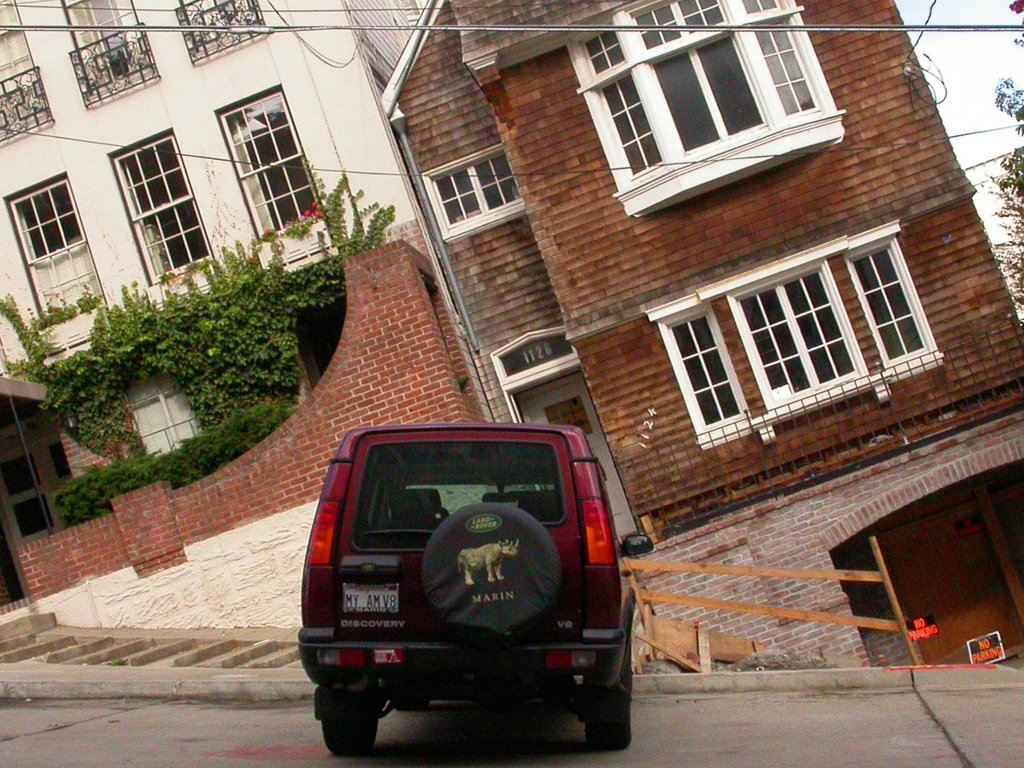mobil: (293, 393, 686, 768)
